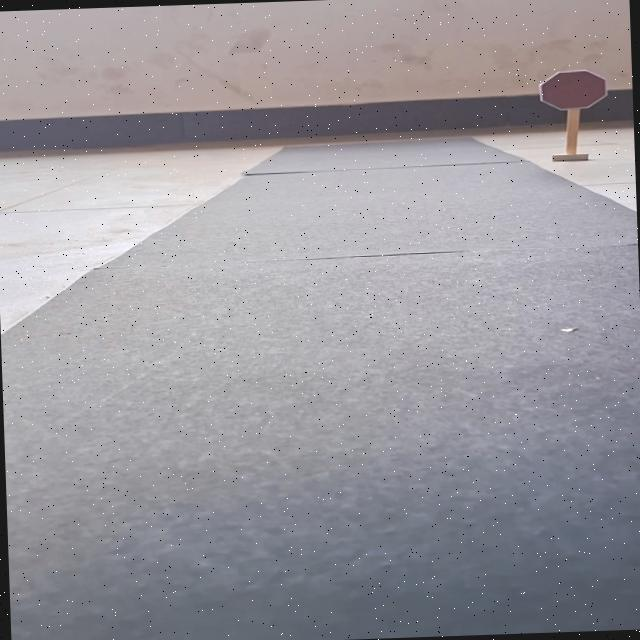Stop: (538, 70, 610, 110)
